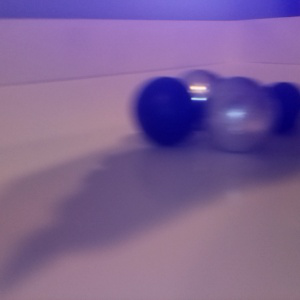alive_ball: (204, 76, 279, 151), (172, 68, 227, 129)
dead_ball: (133, 75, 201, 147), (258, 81, 300, 133)
